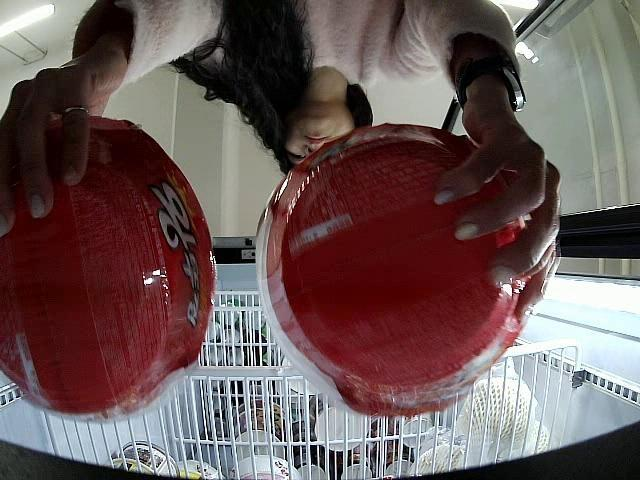10_wangTtukkeong: (255, 122, 536, 416), (0, 110, 215, 422)
